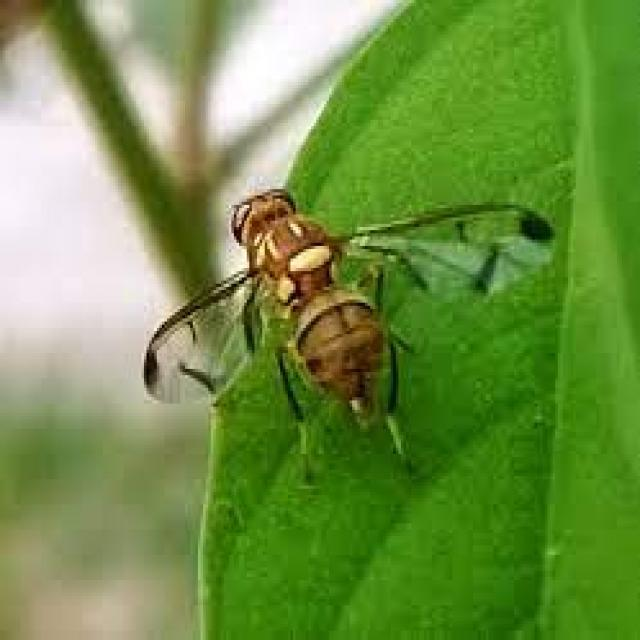Fruit fly: (139, 179, 573, 489)
